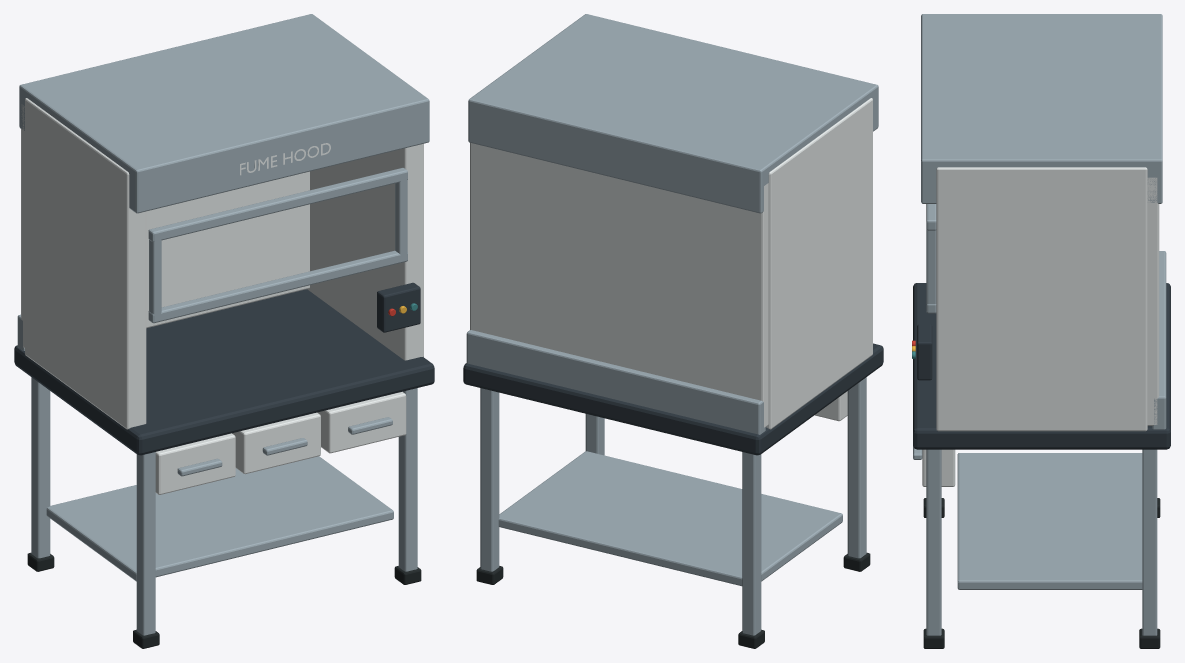
File: fume-hood.glb
The picture shows the model from 3 angles, left to right: view 1: azimuth 30°, elevation 25°; view 2: azimuth 150°, elevation 25°; view 3: azimuth 270°, elevation 25°; orthographic projection. The views are drawn at different scales.
Parts seen in each view (by area): view 1: Extraction plenum, Worktop, Side column, Equipment shelf, Back, Side column.001, Sash rail.001, Sash rail, Tubular leg, Cabinet drawer.002, Cabinet drawer.001, Tubular leg.001 (+5 smaller); view 2: Back, Extraction plenum, Side column, Equipment shelf, Splashback, Worktop, Tubular leg.001, Tubular leg.003, Tubular leg, Tubular leg.002; view 3: Side column.001, Extraction plenum, Equipment shelf, Worktop, Back, Tubular leg.002, Tubular leg.003, Splashback, Control housing, Sash upright.001, Cabinet drawer.002.
Boxes of the visible parts, <box> form: Extraction plenum: <box>19,14,429,213</box>; Worktop: <box>14,289,434,455</box>; Side column: <box>25,98,146,429</box>; Equipment shelf: <box>46,456,393,581</box>; Back: <box>21,104,309,348</box>; Side column.001: <box>307,143,423,360</box>; Sash rail.001: <box>148,167,407,242</box>; Sash rail: <box>148,250,407,323</box>; Tubular leg: <box>136,452,155,635</box>; Cabinet drawer.002: <box>317,391,406,453</box>; Cabinet drawer.001: <box>232,412,320,474</box>; Tubular leg.001: <box>31,377,50,558</box>; Back: <box>470,142,768,427</box>; Extraction plenum: <box>468,14,878,213</box>; Side column: <box>766,98,872,429</box>; Equipment shelf: <box>498,451,842,586</box>; Splashback: <box>466,330,765,434</box>; Worktop: <box>463,343,883,455</box>; Tubular leg.001: <box>742,452,761,635</box>; Tubular leg.003: <box>480,388,499,571</box>; Tubular leg: <box>847,377,866,558</box>; Tubular leg.002: <box>585,414,604,455</box>; Side column.001: <box>936,167,1147,431</box>; Extraction plenum: <box>921,14,1162,203</box>; Equipment shelf: <box>957,453,1142,589</box>; Worktop: <box>913,283,1170,449</box>; Back: <box>1147,177,1159,425</box>; Tubular leg.002: <box>926,449,941,635</box>; Tubular leg.003: <box>1142,449,1157,635</box>; Splashback: <box>1152,251,1166,429</box>; Control housing: <box>917,324,932,380</box>; Sash upright.001: <box>926,229,936,303</box>; Cabinet drawer.002: <box>922,449,955,486</box>.
Size of the model in its own units: 1.5 by 2.32 by 1.1.
